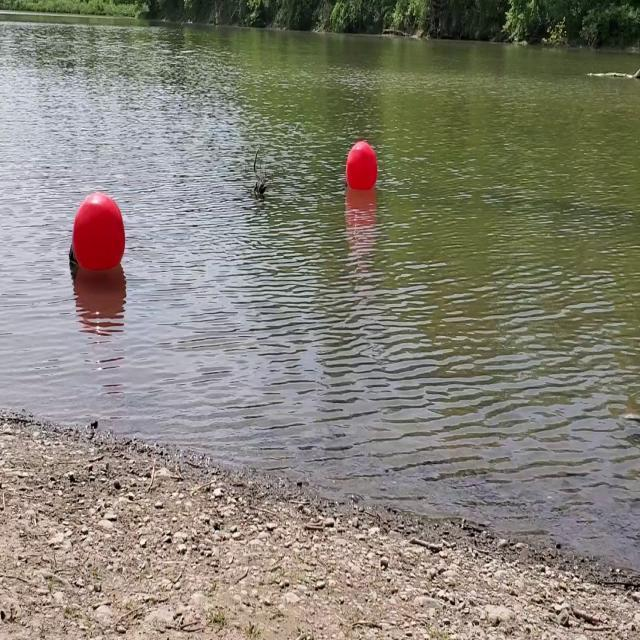buoy: (68, 191, 125, 271), (344, 142, 377, 190)
